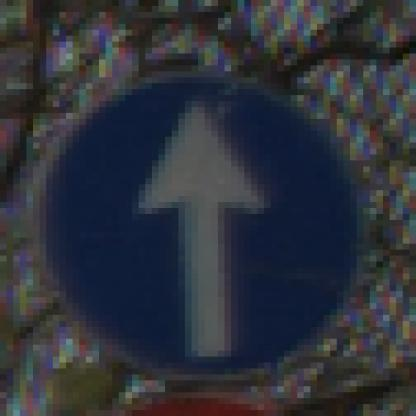AheadOnly: (34, 37, 384, 381)
